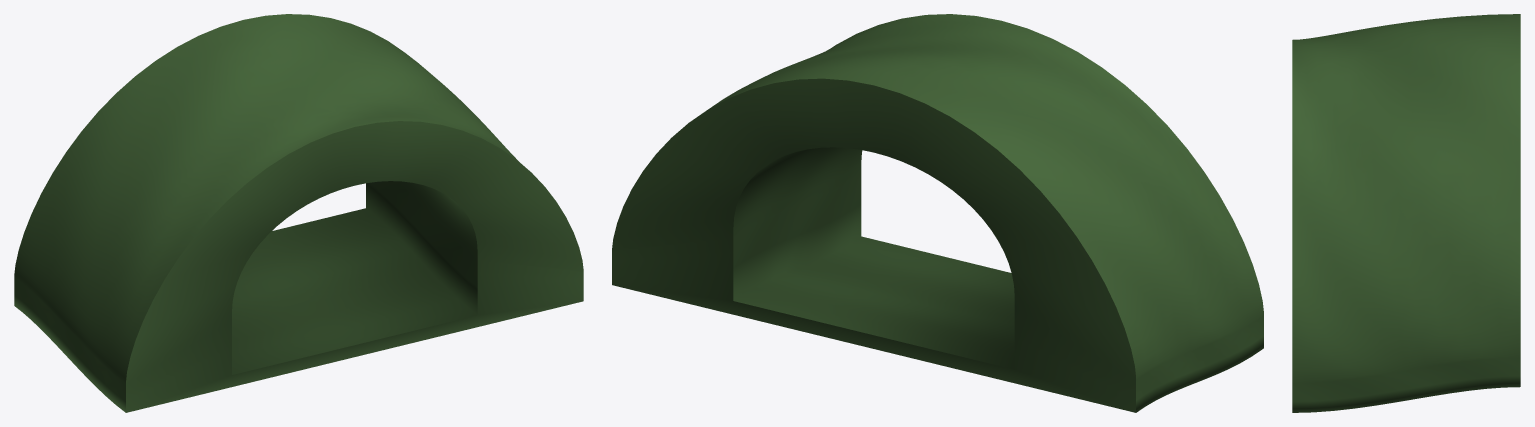
The model's file is grade_up_terrain.glb.
3 views of the same model, side by side, from view 1: azimuth 30°, elevation 25°; view 2: azimuth 150°, elevation 25°; view 3: azimuth 270°, elevation 25° (orthographic). The views are drawn at different scales.
Parts seen in each view (by area): view 1: TerrainRoof.012; view 2: TerrainRoof.012; view 3: TerrainRoof.012.
Part boxes in pixels (bbox=[...]): TerrainRoof.012: bbox=[14, 14, 583, 412]; TerrainRoof.012: bbox=[612, 14, 1263, 412]; TerrainRoof.012: bbox=[1292, 14, 1520, 412].
Bounding box in the file's own units: 28.4 × 15.15 × 12.
